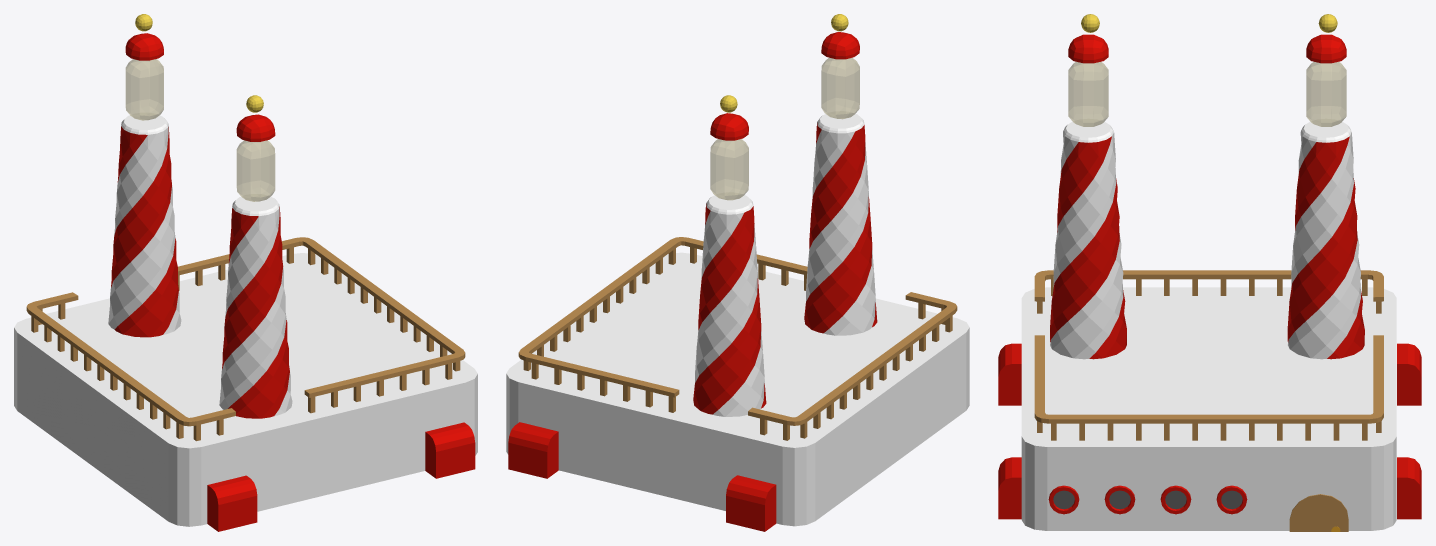
File: cabina.obj
3 renders of one model, left to right at view 1: azimuth 30°, elevation 25°; view 2: azimuth 150°, elevation 25°; view 3: azimuth 270°, elevation 25°, orthographic. The views are drawn at different scales.
Parts seen in each view (by area): view 1: c_cabina, Material; view 2: c_cabina, Material; view 3: c_cabina, Material.
Boxes of the visible parts, x1,y1,x2,y2 form: c_cabina: (14, 14, 477, 531); Material: (125, 59, 275, 201); c_cabina: (506, 14, 969, 531); Material: (710, 57, 859, 200); c_cabina: (998, 14, 1421, 531); Material: (1068, 62, 1346, 126).
Size of the model in its own units: 2.88 by 3.43 by 3.19.
